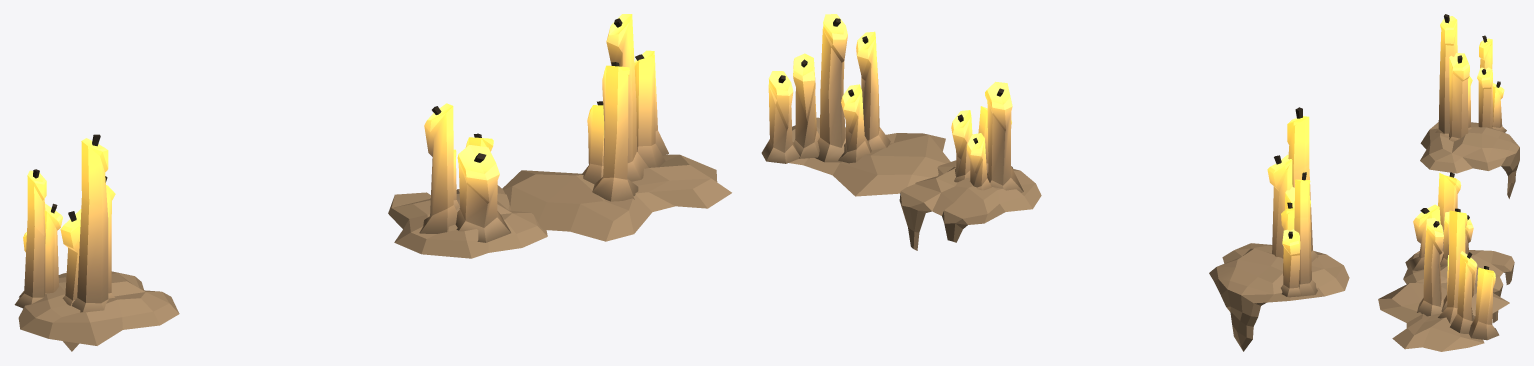
File: crypt_candles_c.gltf
3 renders of one model, left to right at view 1: azimuth 30°, elevation 25°; view 2: azimuth 150°, elevation 25°; view 3: azimuth 270°, elevation 25°, orthographic. The views are drawn at different scales.
Parts seen in each view (by area): view 1: crypt_candles_c; view 2: crypt_candles_c; view 3: crypt_candles_c.
Boxes of the visible parts, left/top/right/bottom form: crypt_candles_c: left=14, top=14, right=731, bottom=351; crypt_candles_c: left=761, top=14, right=1349, bottom=351; crypt_candles_c: left=1378, top=14, right=1519, bottom=351.
Size of the model in its own units: 1.66 by 0.5946 by 0.4301.
Materials: 1 (1 with a texture image).
